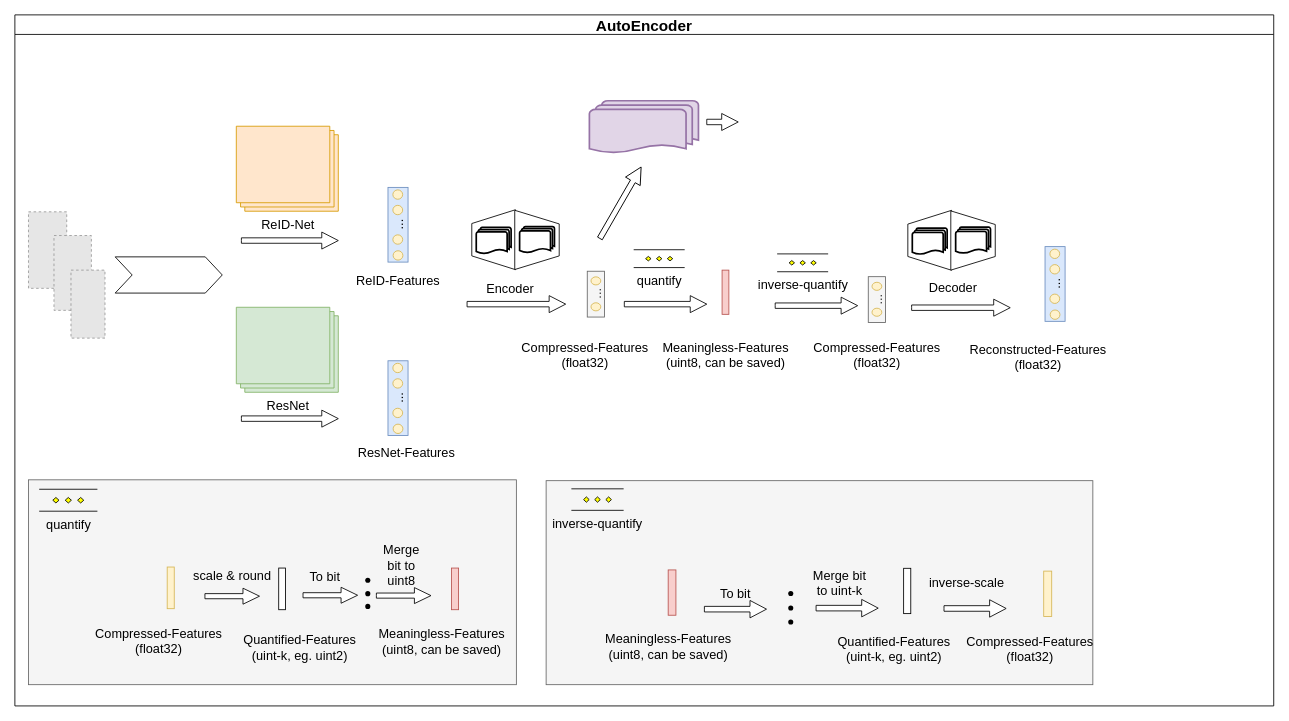
This 1289x721 diagram has some shape labels left out. Grey dashed boxes stand in for pictures. The centre of each missing label's shape, as x and y in pixels:
data augmentation: (168,274)
Discriminator: (643,126)
